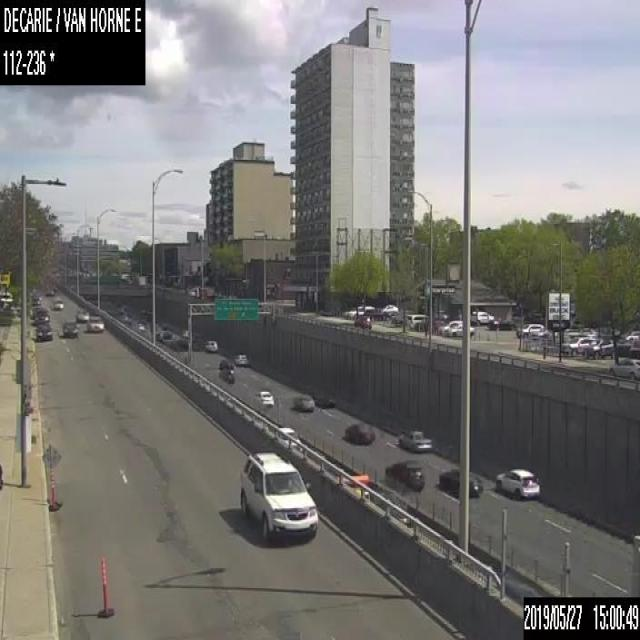construction: (41, 442, 61, 510), (97, 555, 114, 617)
vehicle: (240, 452, 318, 541), (494, 465, 541, 500), (438, 467, 482, 496), (386, 460, 423, 489), (398, 428, 432, 452), (345, 421, 375, 444), (606, 358, 639, 377), (560, 334, 586, 355), (582, 337, 604, 357), (290, 393, 314, 411), (33, 322, 53, 342), (448, 322, 474, 337), (516, 322, 542, 337), (313, 391, 334, 409), (470, 310, 493, 325), (254, 389, 274, 406), (438, 320, 462, 334), (406, 312, 427, 328), (86, 314, 104, 332), (488, 318, 515, 330), (62, 320, 78, 338), (33, 308, 50, 324), (354, 314, 371, 326), (75, 306, 89, 320), (219, 368, 233, 382), (159, 329, 172, 343), (218, 357, 233, 369), (204, 338, 217, 351), (233, 352, 247, 364), (348, 305, 363, 316), (381, 303, 398, 312), (52, 297, 64, 309), (31, 292, 41, 304), (119, 273, 130, 278), (181, 330, 187, 338)
